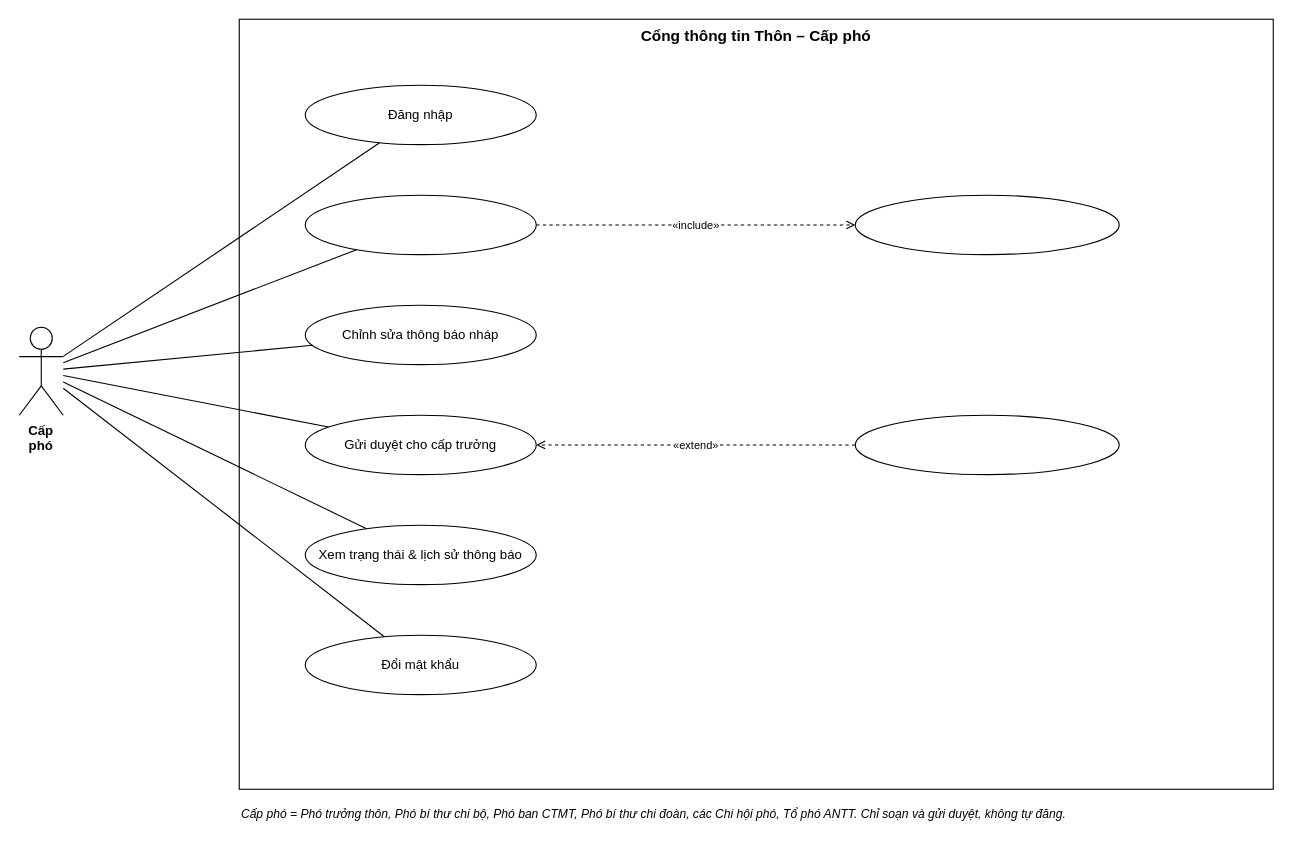
This 1293x864 diagram has some shape labels left out. The box of each missing label's shape, as (x1, y1, x2, y2) in pixels:
Chọn đối tượng: thành viên tổ chức / toàn thôn: (854, 194, 1119, 255)
Rút lại yêu cầu duyệt: (854, 414, 1119, 475)
Soạn thông báo (lưu nháp): (304, 194, 536, 255)
